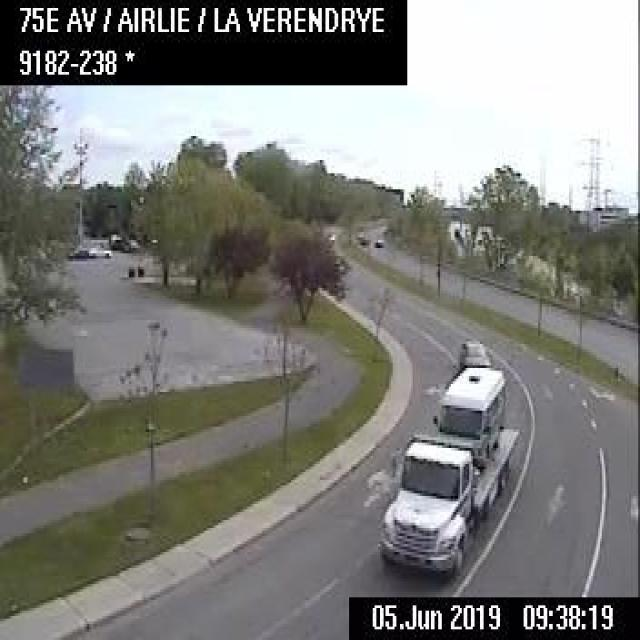vehicle: (373, 366, 518, 578), (456, 338, 489, 366), (88, 243, 110, 256), (66, 246, 88, 258), (322, 230, 334, 246), (357, 232, 369, 245), (372, 236, 384, 248)
